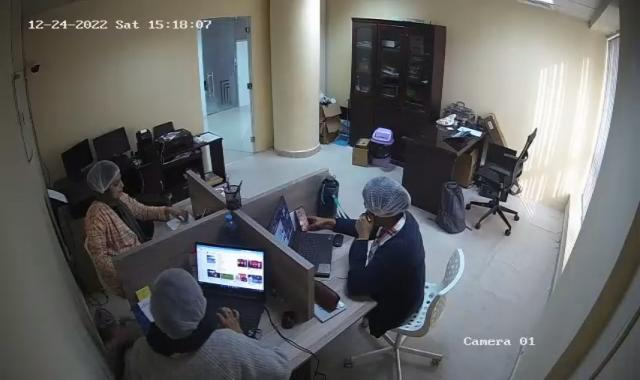hairnet: (147, 267, 206, 333), (357, 178, 412, 216), (87, 160, 123, 196)
